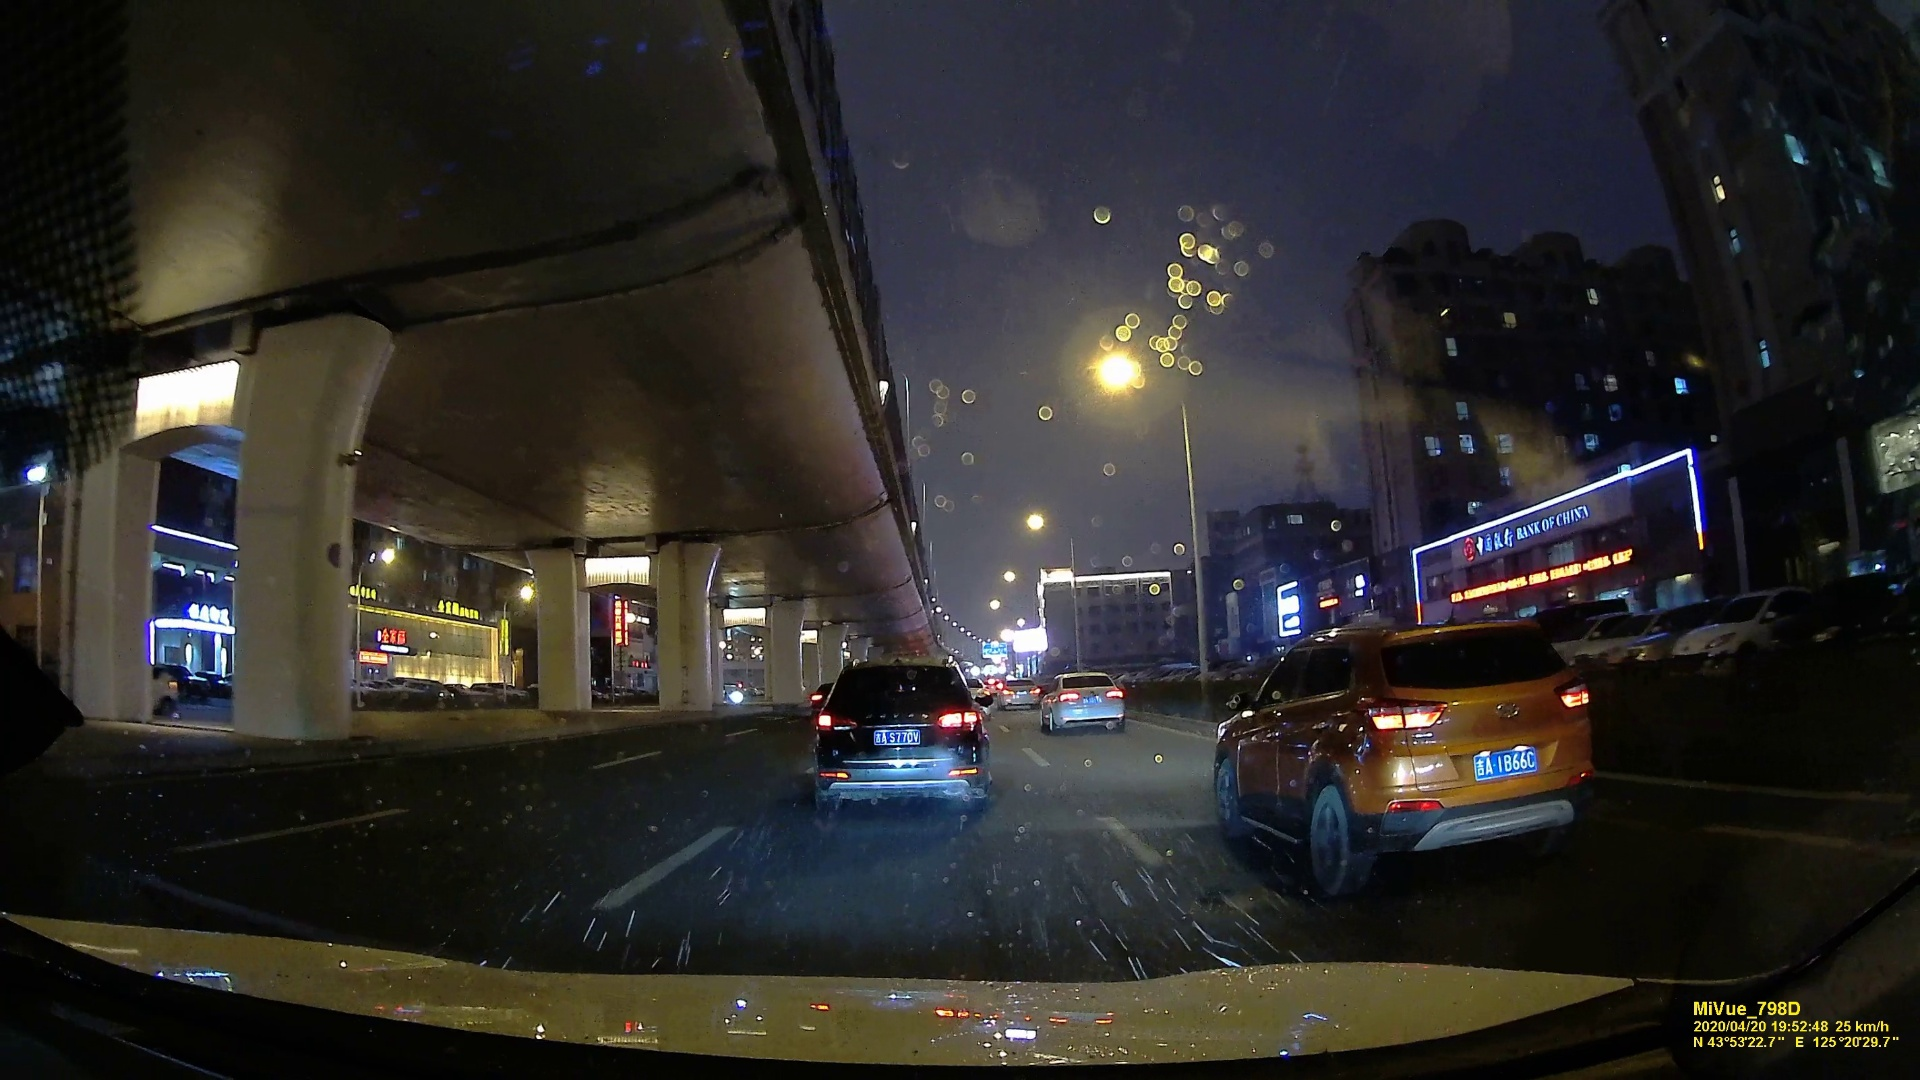vehicle: (1215, 615, 1602, 886), (808, 662, 990, 816), (1040, 671, 1126, 733), (998, 676, 1039, 709)
